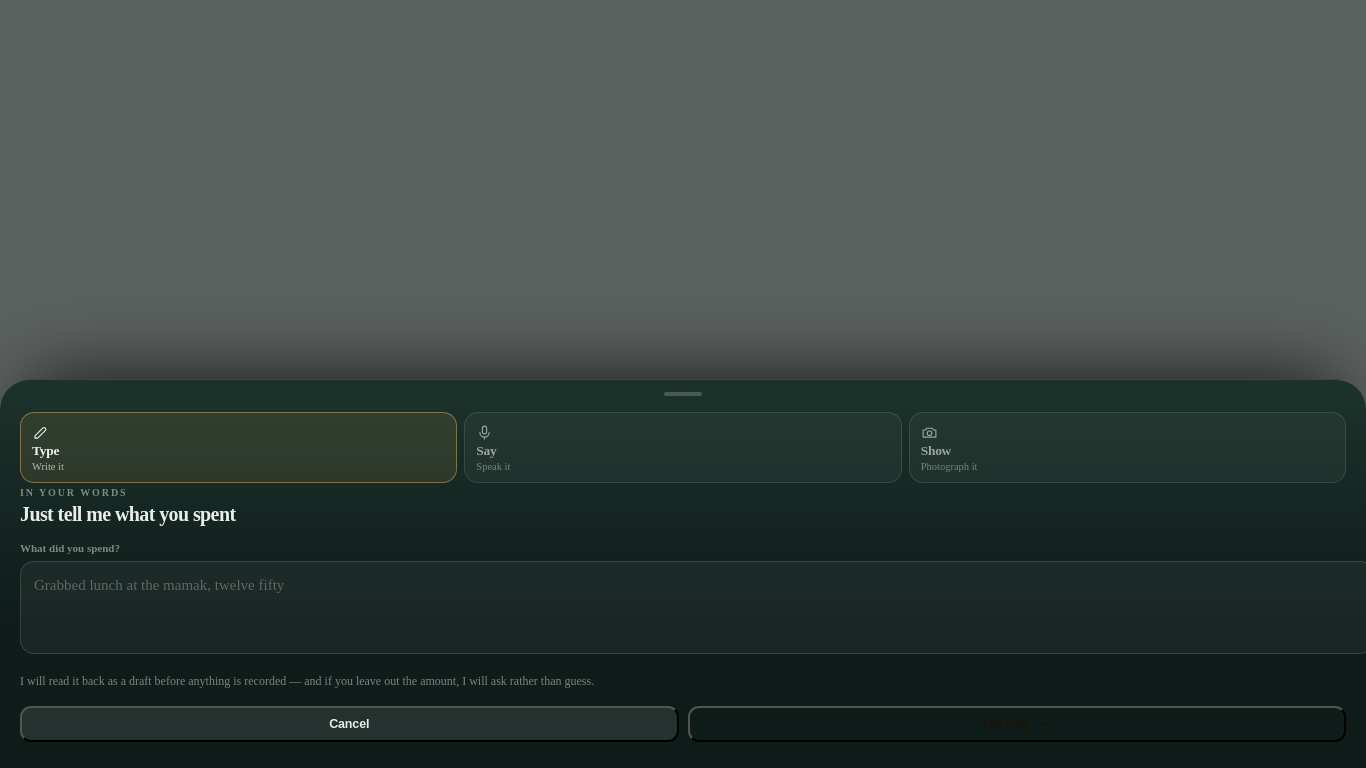
it: EntrySheet › shows the camera when the receipt is the easier answer
What coordinates should you click on to do the following:
click the tab "Show Photograph it"
I would click on:
 (936, 450)
Its box is [909,412,1346,482].
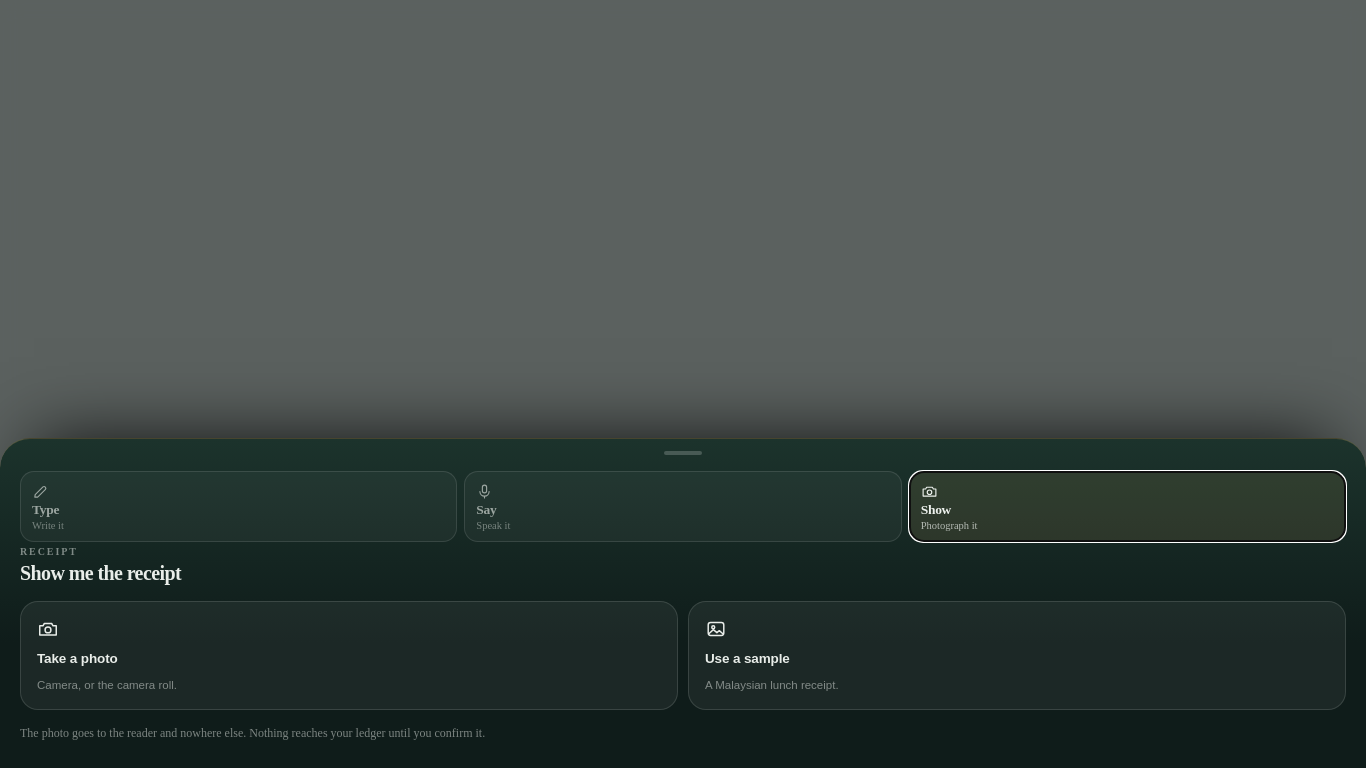
expect the button "Take a photo Camera, or the camera roll." is shown: met, box [20,601,678,710]
